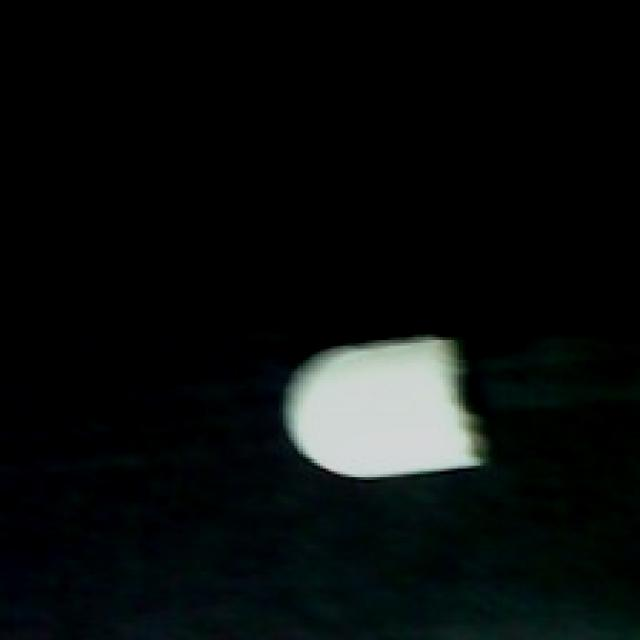defected: (277, 331, 509, 489)
